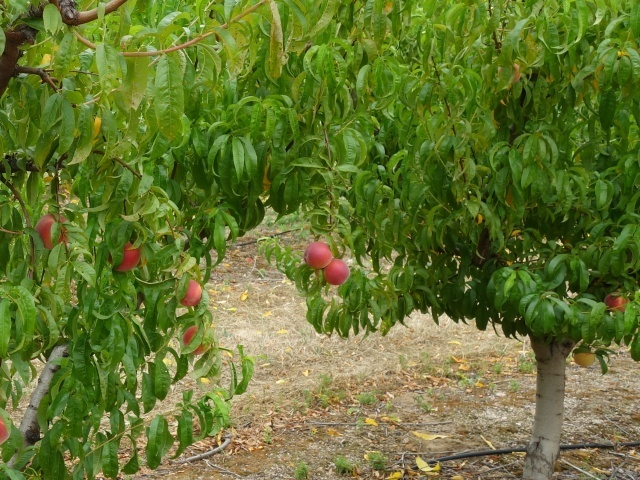peach: (34, 208, 76, 253), (106, 235, 144, 273), (320, 253, 351, 289), (301, 238, 334, 271), (176, 275, 206, 310), (181, 320, 210, 355), (603, 288, 633, 315), (569, 345, 597, 370)
